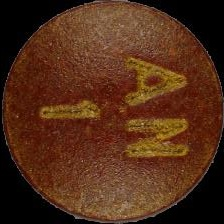0440-2070: (0, 0, 224, 224)
